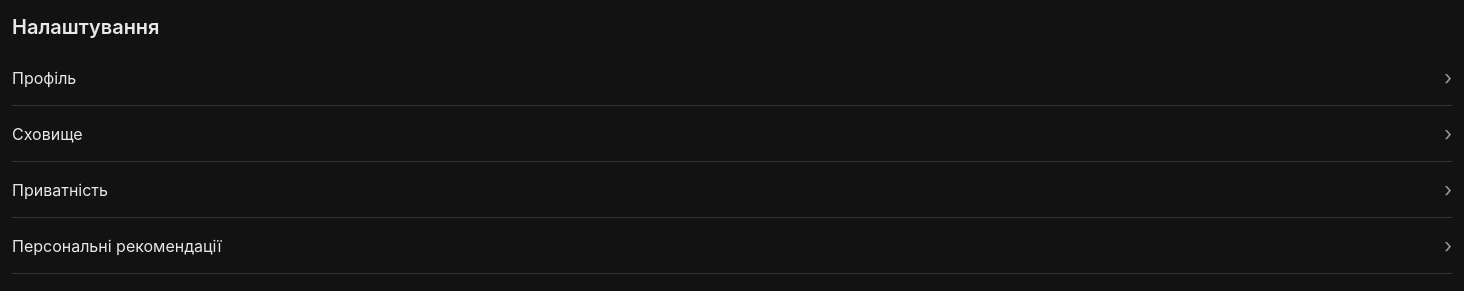
Test case: Приватність direction › explains the real transport honestly — no dead toggles
The image size is (1464, 291).
Click the button "Приватність ›".
click(60, 190)  # box [12, 162, 1452, 218]
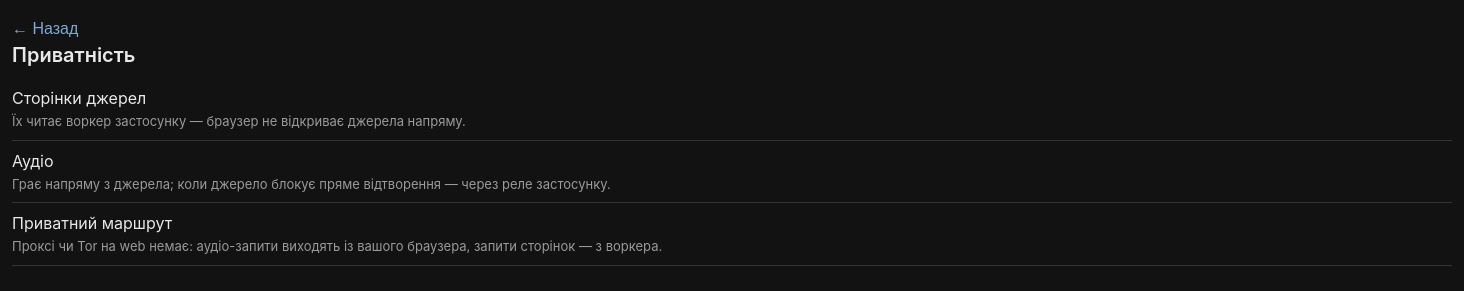
Check: the heading "Приватність" is shown, box [12, 40, 136, 70]
Check: the text "Сторінки джерел" is shown, box [12, 88, 146, 108]
Check: the text "воркер застосунку" is shown, box [12, 113, 466, 129]
